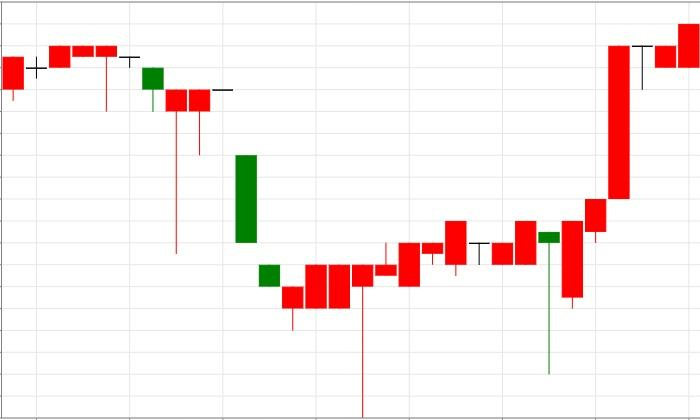hammer_rise: (72, 46, 188, 254)
